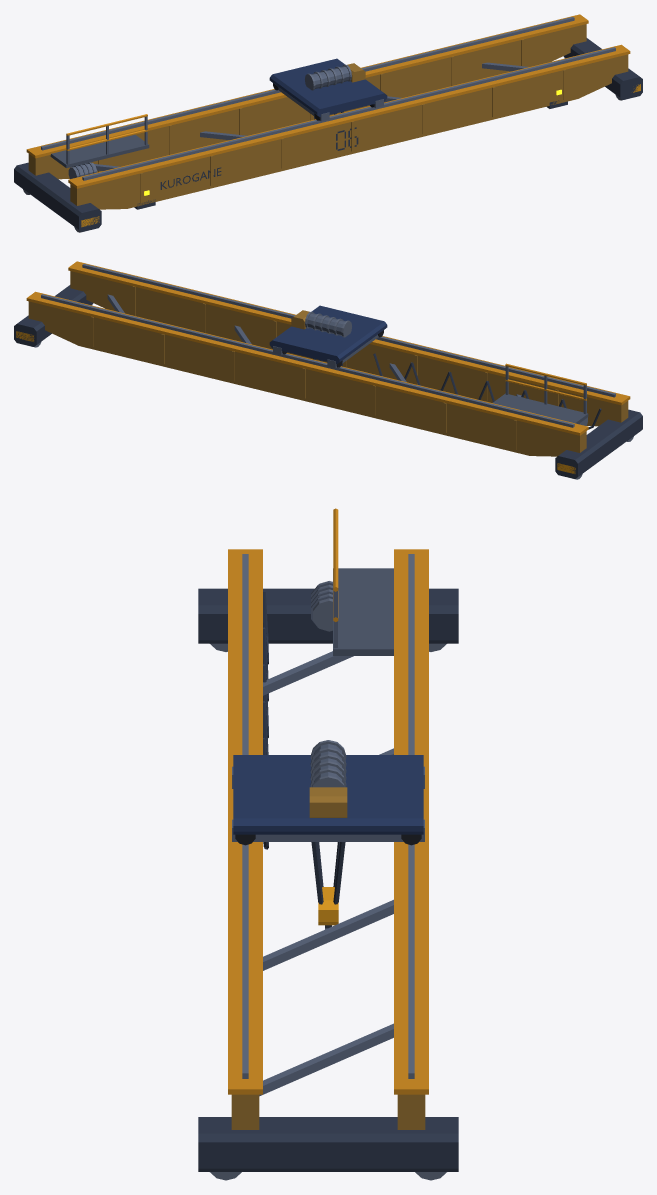
The model's file is wh_overhead_crane.glb.
3 views of the same model, one above another, from view 1: azimuth 30°, elevation 25°; view 2: azimuth 150°, elevation 25°; view 3: azimuth 270°, elevation 25° (orthographic). The views are drawn at different scales.
Visible parts, largest first — view 1: drive, flange, cargo_hook, digit, trolley_chassis, diagonal, service_platform; view 2: drive, flange, cargo_hook, digit, trolley_chassis, diagonal, service_platform; view 3: flange, digit, trolley_chassis, cargo_hook, diagonal, service_platform, drive.
Boxes of the visible parts, box(x1,y1,x2,y2) form: drive: box(28, 24, 628, 209); flange: box(26, 14, 630, 188); cargo_hook: box(23, 17, 622, 232); digit: box(14, 38, 642, 231); trolley_chassis: box(269, 58, 387, 117); diagonal: box(66, 62, 528, 176); service_platform: box(50, 134, 149, 168); drive: box(28, 271, 628, 456); flange: box(26, 261, 630, 435); cargo_hook: box(34, 264, 633, 479); digit: box(14, 285, 642, 478); trolley_chassis: box(269, 305, 387, 364); diagonal: box(107, 294, 586, 414); service_platform: box(492, 393, 588, 423); flange: box(228, 508, 428, 1094); digit: box(198, 588, 458, 1171); trolley_chassis: box(233, 755, 423, 834); cargo_hook: box(210, 554, 446, 1180); diagonal: box(232, 581, 424, 1096); service_platform: box(333, 568, 393, 655); drive: box(231, 787, 425, 1129).
Bounding box in the file's own units: 16 × 2.4 × 3.2.
